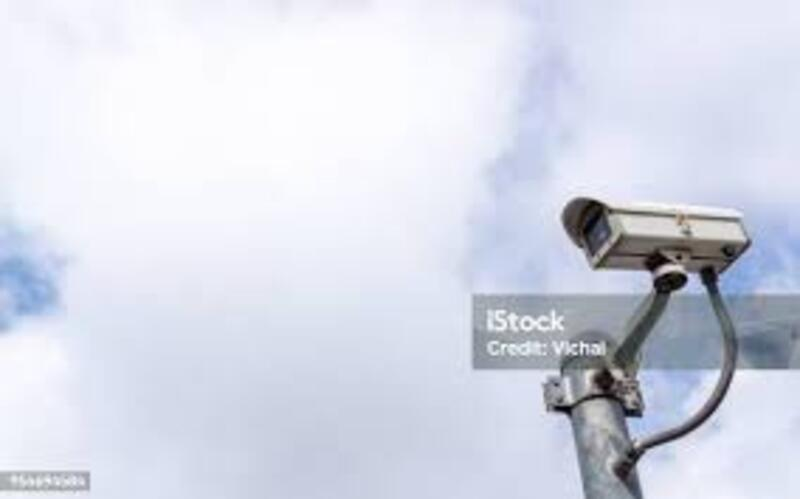box: (554, 189, 756, 275)
